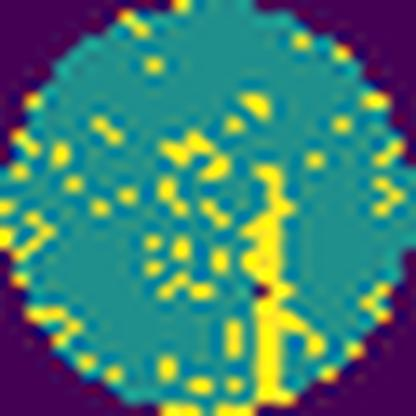Scratch: (235, 158, 331, 406)
